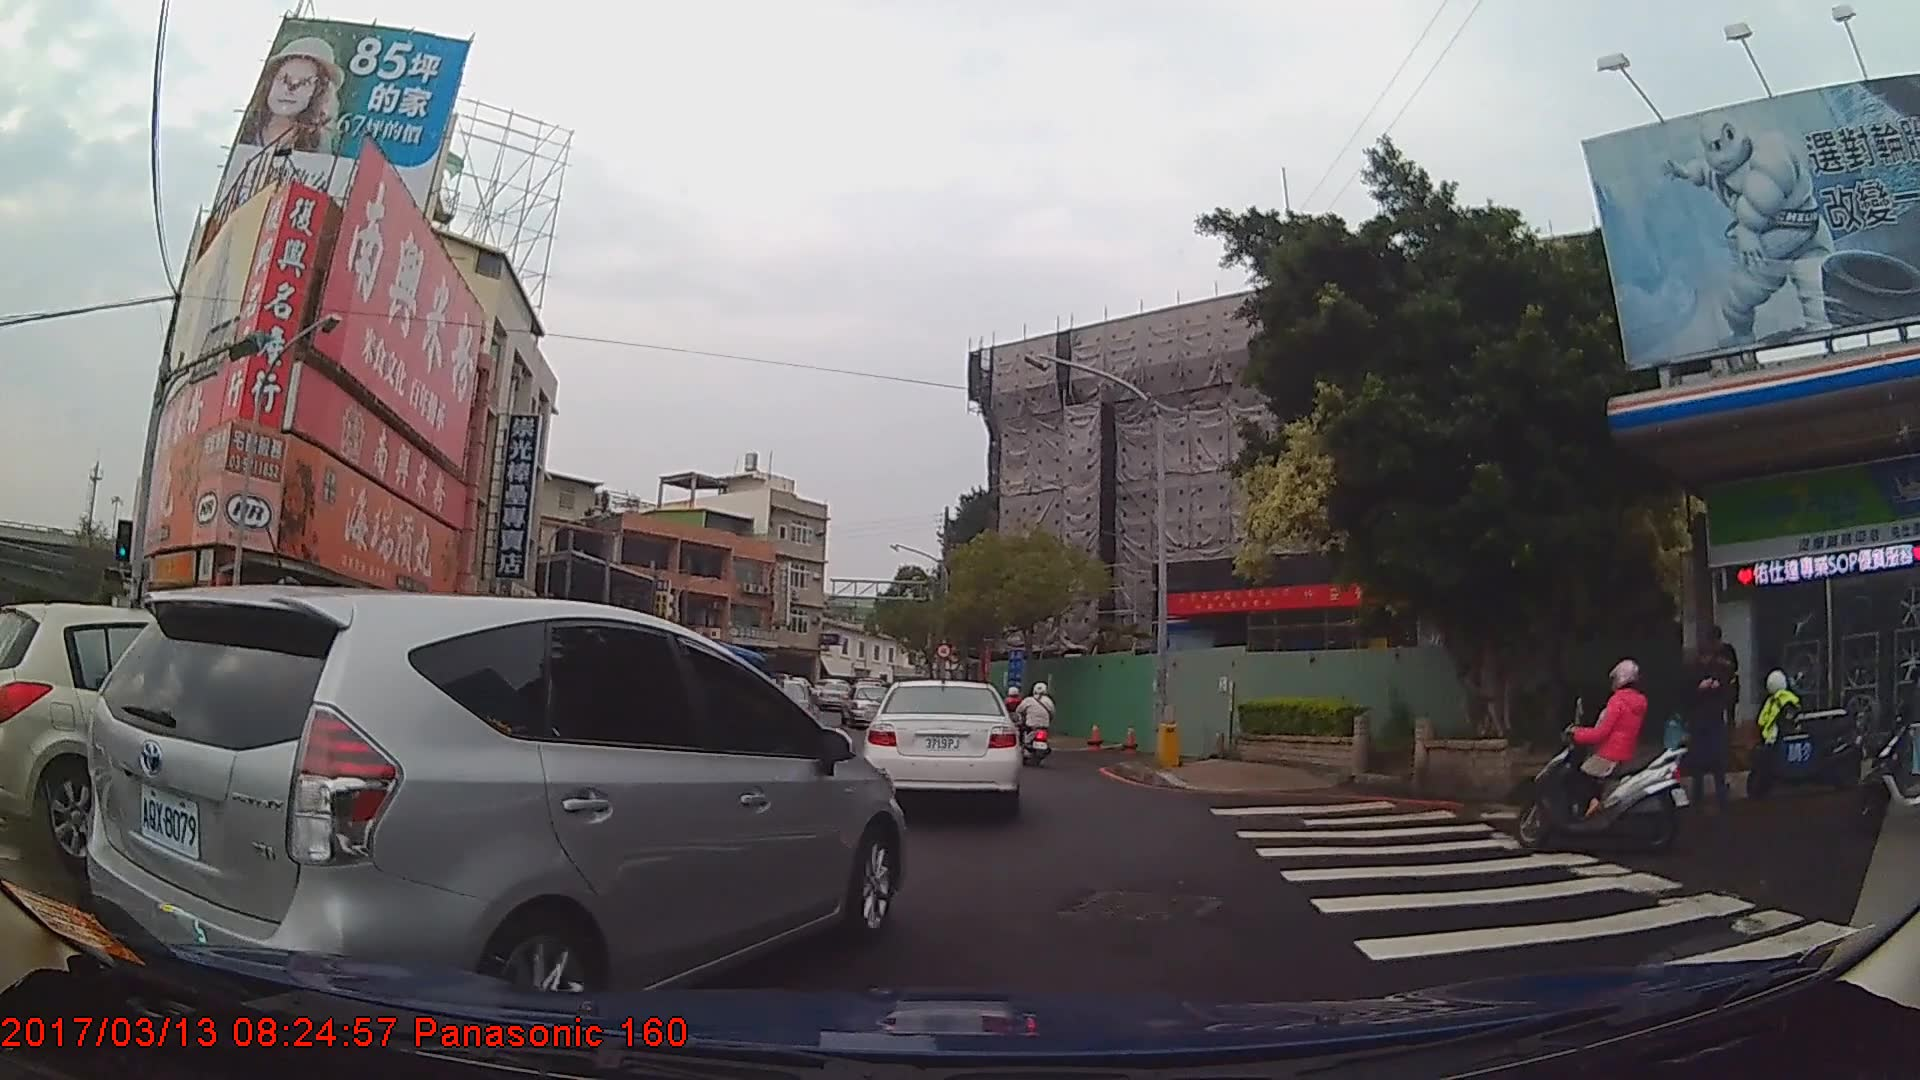pedestrian: (1684, 631, 1741, 811), (1695, 621, 1745, 748)
rider: (1500, 662, 1687, 851), (1020, 680, 1056, 765)
vehicle: (82, 583, 911, 1026), (0, 600, 415, 871), (860, 679, 1022, 818)
